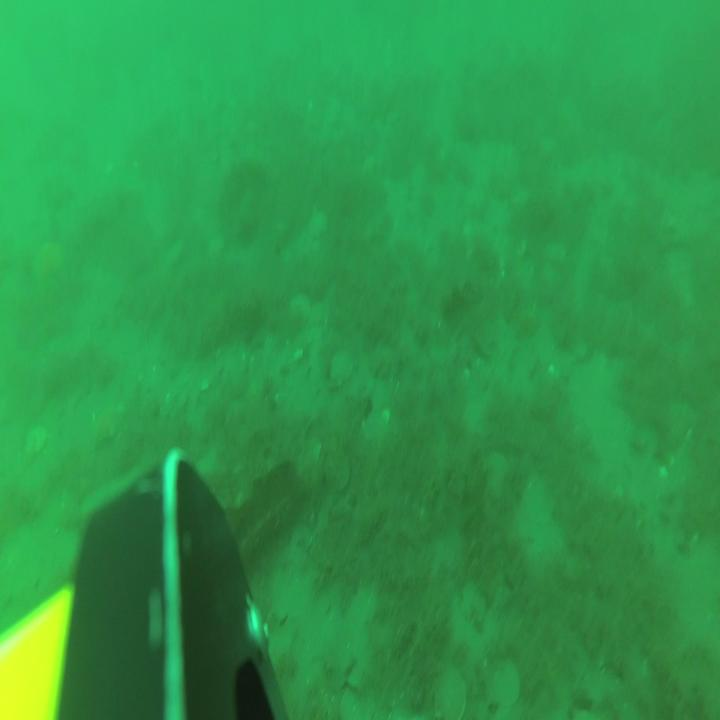scallop: (483, 654, 524, 719), (459, 578, 490, 629), (323, 444, 352, 493), (329, 345, 354, 390)
starfish: (30, 236, 72, 296), (430, 662, 468, 720)
